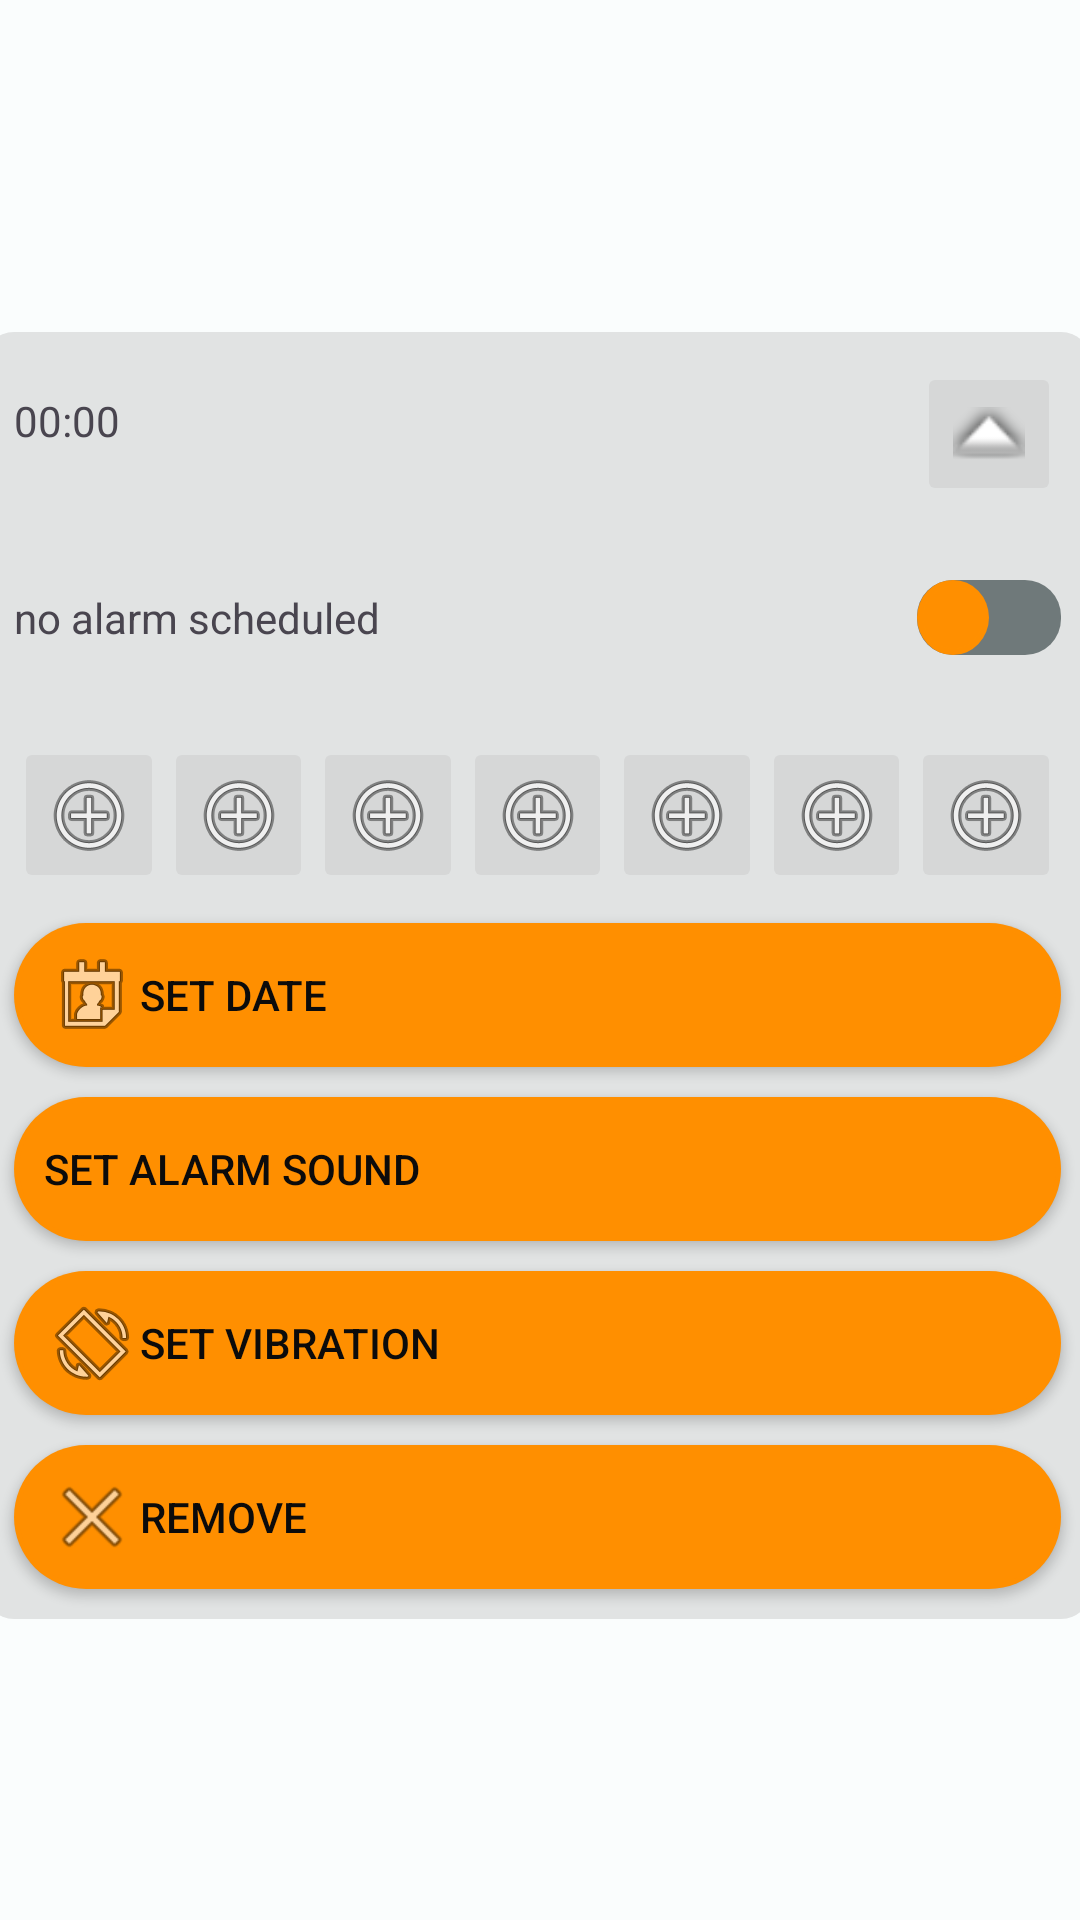

Screen size 1080*1920. Icon name, then its center in pixels as [x,y]:
expand alarm menu: [989,433]
